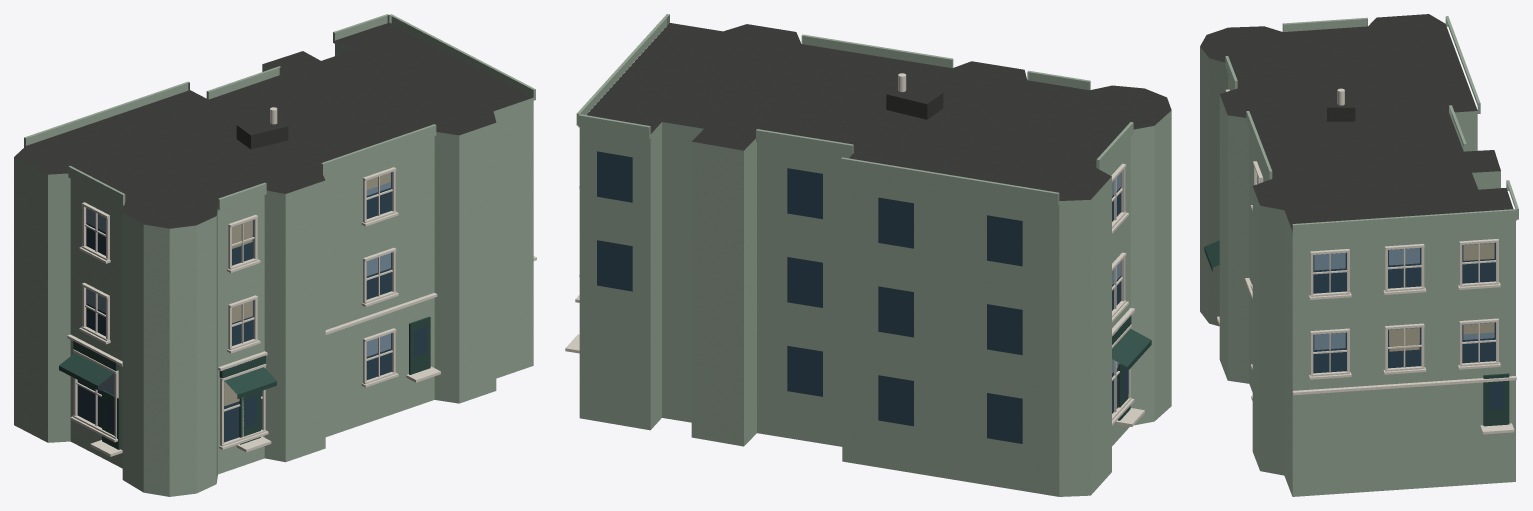
3 views of the same model, side by side, from view 1: azimuth 30°, elevation 25°; view 2: azimuth 150°, elevation 25°; view 3: azimuth 270°, elevation 25° (orthographic). The views are drawn at different scales.
Parts seen in each view (by area): view 1: Footprint 0 / surface 2, Footprint 0 / surface 1, Cornices and window frames, Facade bay volumes, Inset glazing, Storefronts and doors, Sky reflection panels, Interior blind variation; view 2: Footprint 0 / surface 2, Footprint 0 / surface 1, Inset glazing, Facade bay volumes, Cornices and window frames, Storefronts and doors, Inferred rooftop service enclosure / surface 6; view 3: Footprint 0 / surface 2, Footprint 0 / surface 1, Cornices and window frames, Facade bay volumes, Inset glazing, Sky reflection panels, Interior blind variation, Storefronts and doors, Inferred rooftop service enclosure / surface 3, Inferred rooftop service enclosure / surface 1.
Boxes of the visible parts, left/top/right/bottom form: Footprint 0 / surface 2: left=14, top=41, right=533, bottom=496; Footprint 0 / surface 1: left=14, top=22, right=532, bottom=228; Cornices and window frames: left=67, top=167, right=536, bottom=456; Facade bay volumes: left=24, top=14, right=535, bottom=210; Inset glazing: left=77, top=172, right=426, bottom=442; Storefronts and doors: left=59, top=316, right=430, bottom=449; Sky reflection panels: left=87, top=172, right=390, bottom=405; Interior blind variation: left=224, top=172, right=390, bottom=406; Footprint 0 / surface 2: left=579, top=110, right=1171, bottom=496; Footprint 0 / surface 1: left=586, top=23, right=1171, bottom=200; Inset glazing: left=597, top=151, right=1128, bottom=443; Facade bay volumes: left=576, top=14, right=1133, bottom=205; Cornices and window frames: left=565, top=163, right=1144, bottom=426; Storefronts and doors: left=1112, top=315, right=1151, bottom=420; Inferred rooftop service enclosure / surface 6: left=886, top=94, right=927, bottom=119; Footprint 0 / surface 2: left=1200, top=46, right=1515, bottom=496; Footprint 0 / surface 1: left=1200, top=14, right=1513, bottom=231; Cornices and window frames: left=1217, top=89, right=1516, bottom=434; Facade bay volumes: left=1225, top=16, right=1518, bottom=235; Inset glazing: left=1257, top=183, right=1504, bottom=409; Sky reflection panels: left=1257, top=177, right=1494, bottom=350; Interior blind variation: left=1257, top=175, right=1494, bottom=351; Storefronts and doors: left=1204, top=240, right=1509, bottom=426; Inferred rooftop service enclosure / surface 3: left=1327, top=89, right=1355, bottom=107; Inferred rooftop service enclosure / surface 1: left=1327, top=107, right=1355, bottom=121.
Size of the model in its own units: 21.94 by 13.68 by 13.48.
